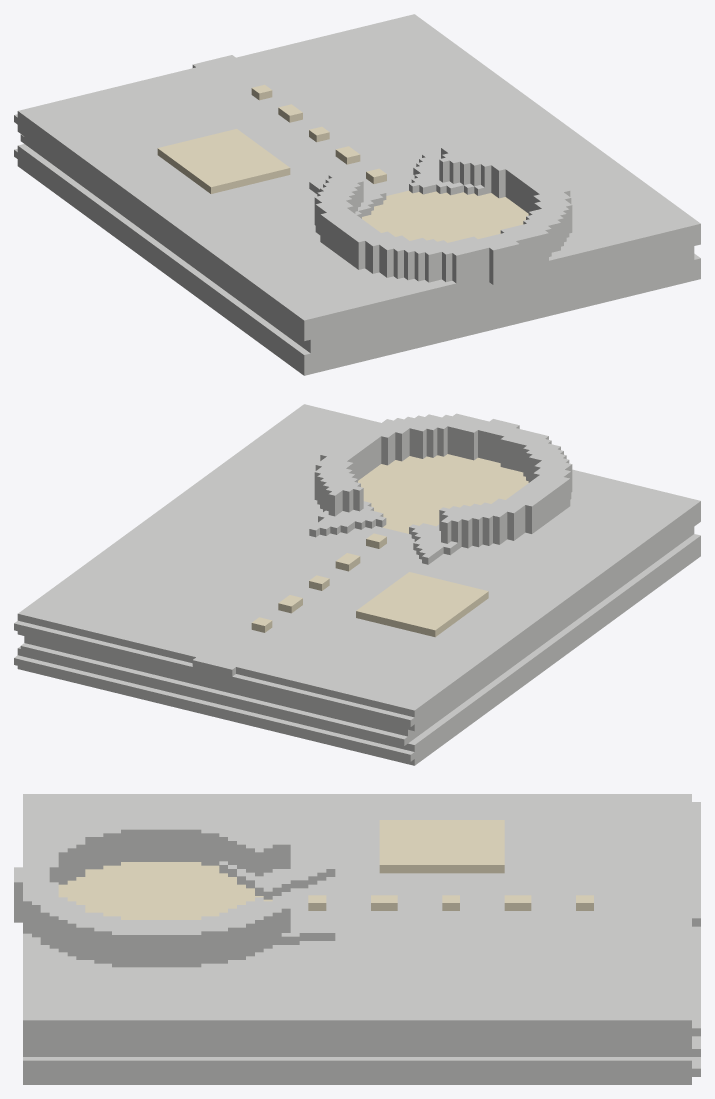
File: dress_shirt.glb
3 views of the same model, one above another, from view 1: azimuth 30°, elevation 25°; view 2: azimuth 150°, elevation 25°; view 3: azimuth 270°, elevation 25° (orthographic). The views are drawn at different scales.
Parts seen in each view (by area): view 1: dress_shirt:compound; view 2: dress_shirt:compound; view 3: dress_shirt:compound.
Part boxes in pixels (box(x1,y1,x2,y2)): dress_shirt:compound: box(14, 14, 700, 375); dress_shirt:compound: box(14, 404, 700, 765); dress_shirt:compound: box(14, 794, 700, 1084).
Bounding box in the file's own units: 0.24 × 0.048 × 0.308.
